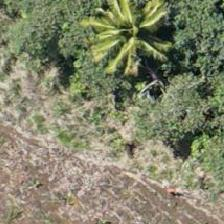coconut_tree: (88, 0, 178, 76)
